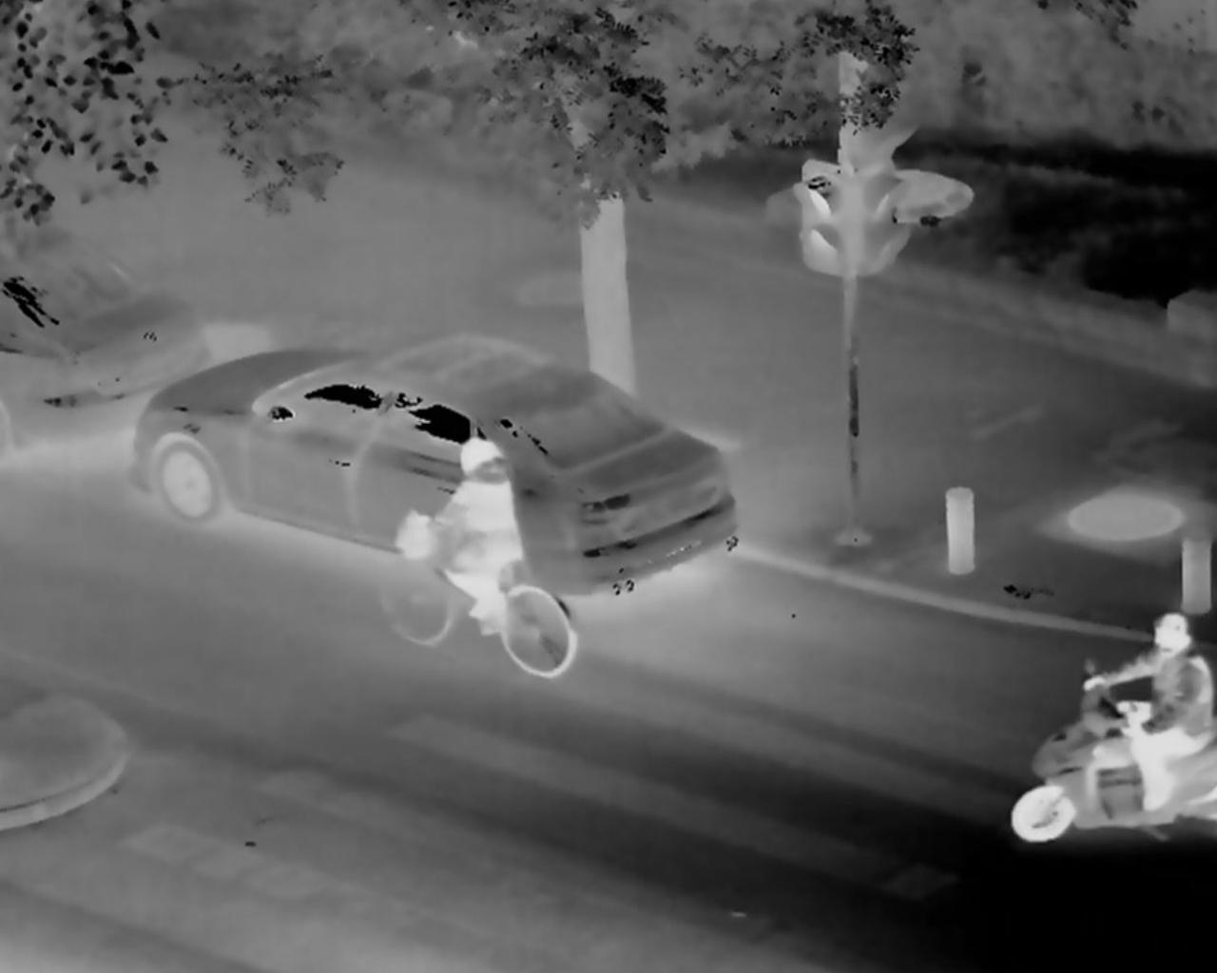person: (1080, 605, 1217, 823), (421, 437, 537, 637)
